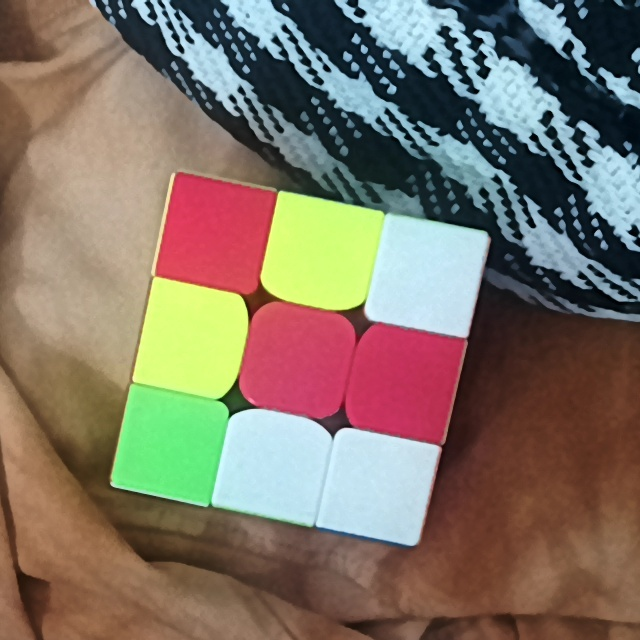tile: (130, 398, 210, 490), (173, 194, 258, 279), (335, 446, 420, 530), (359, 345, 446, 427), (151, 299, 231, 385), (387, 239, 469, 321), (278, 212, 362, 292), (255, 325, 339, 405), (234, 423, 316, 502)
